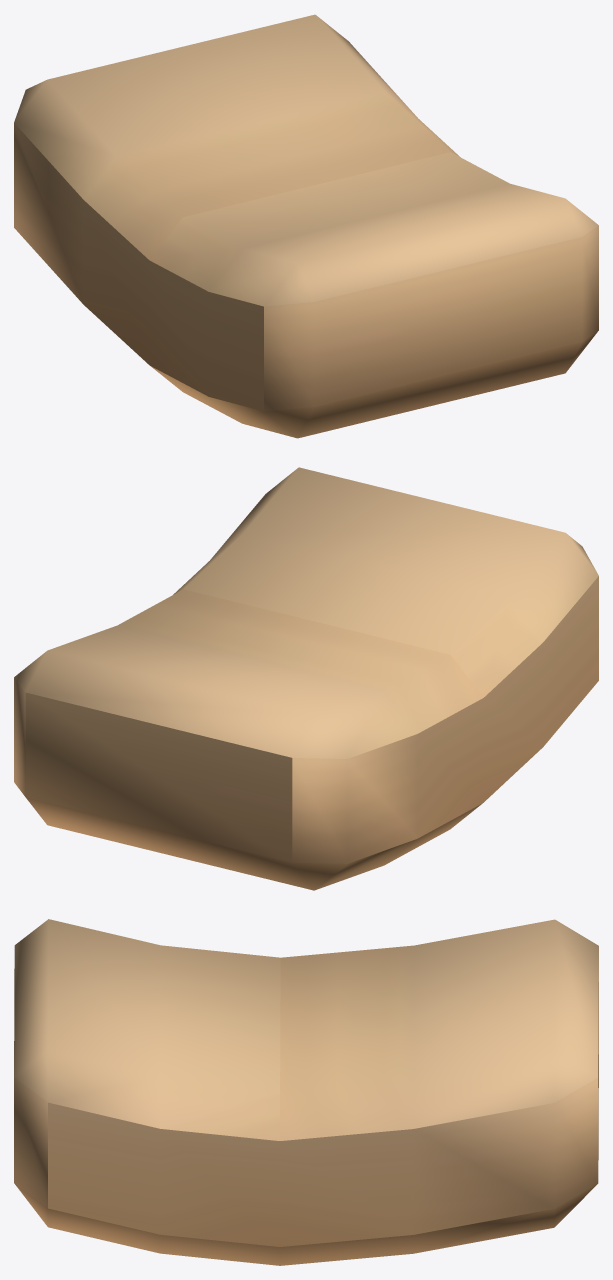
File: kay-saco.gltf
3 views of the same model, one above another, from view 1: azimuth 30°, elevation 25°; view 2: azimuth 150°, elevation 25°; view 3: azimuth 270°, elevation 25° (orthographic).
Visible parts, largest first — view 1: sack; view 2: sack; view 3: sack.
Part boxes in pixels (left/top/right/bottom): sack: left=14, top=14, right=598, bottom=438; sack: left=14, top=467, right=598, bottom=890; sack: left=14, top=919, right=598, bottom=1265.
Bounding box in the file's own units: 0.5326 × 0.3234 × 0.7977.
1 material, 1 textured.
